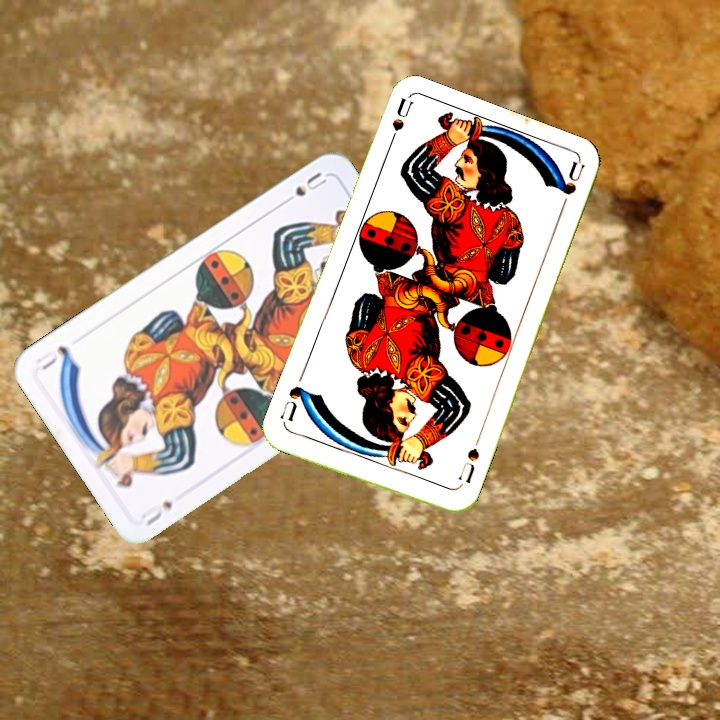SU: (276, 168, 330, 209), (383, 95, 415, 154), (453, 444, 482, 491), (138, 496, 176, 529)
